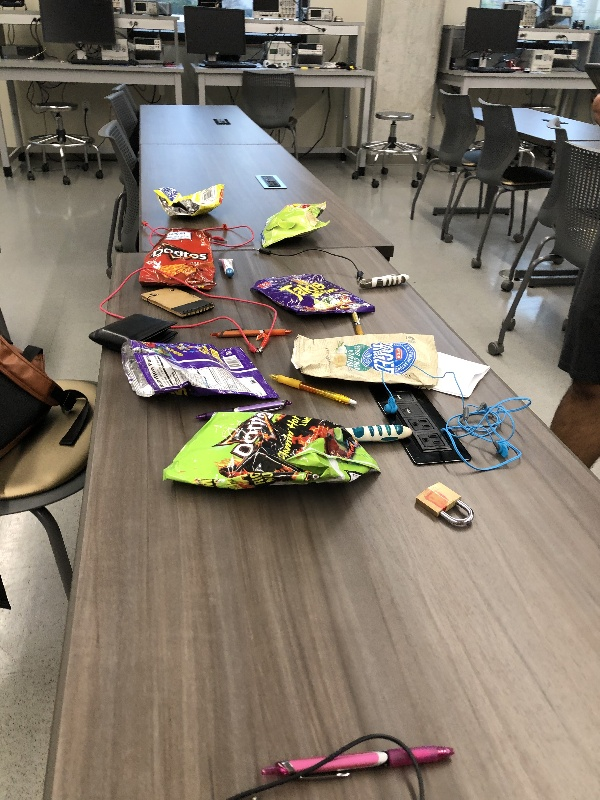bag: (159, 416, 388, 497), (118, 334, 281, 407), (287, 331, 443, 392), (246, 268, 377, 321), (134, 230, 219, 292), (257, 198, 332, 252), (148, 179, 229, 224)
